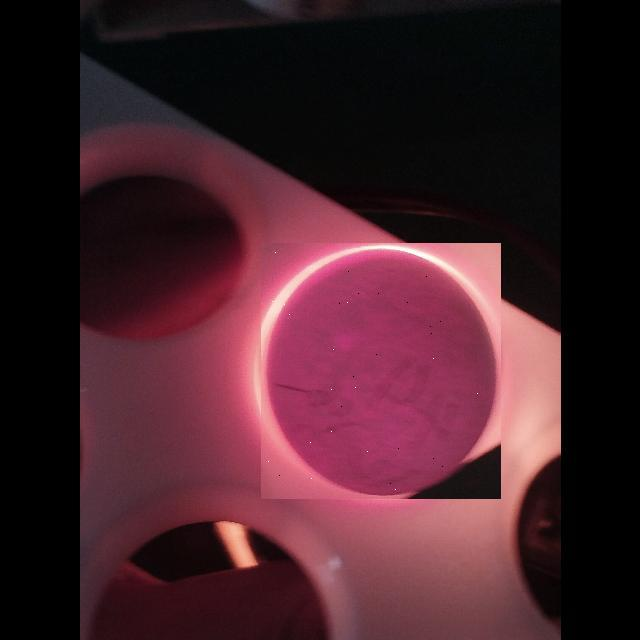Infertile: (261, 243, 501, 499)
